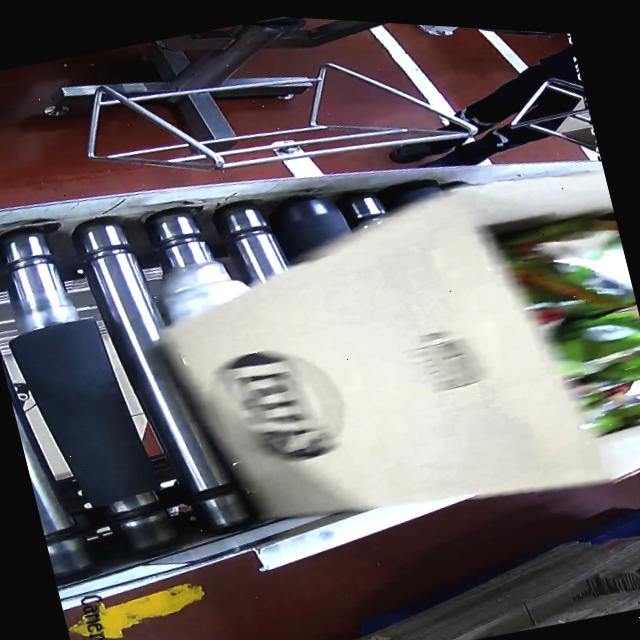YOGURT_HERB: (494, 197, 640, 456)
